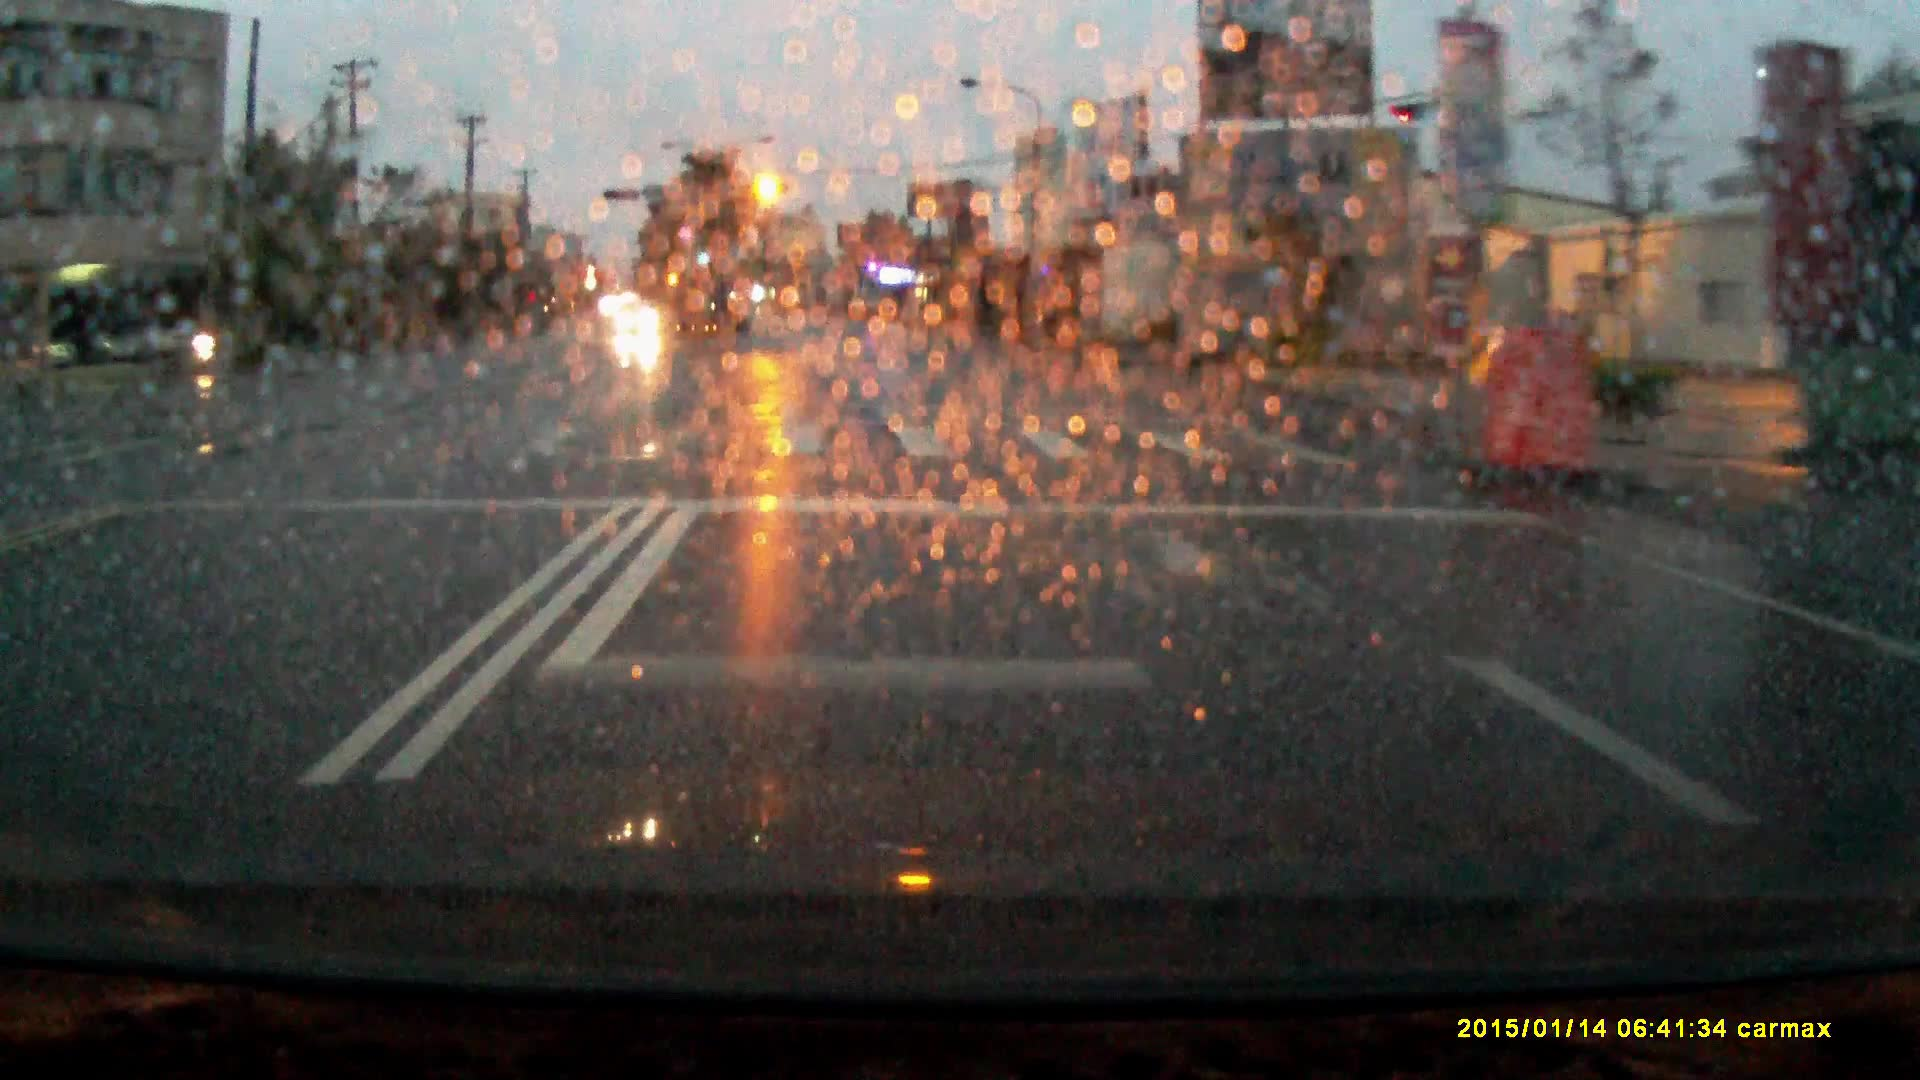rider: (187, 293, 228, 373)
vehicle: (616, 296, 664, 333)
